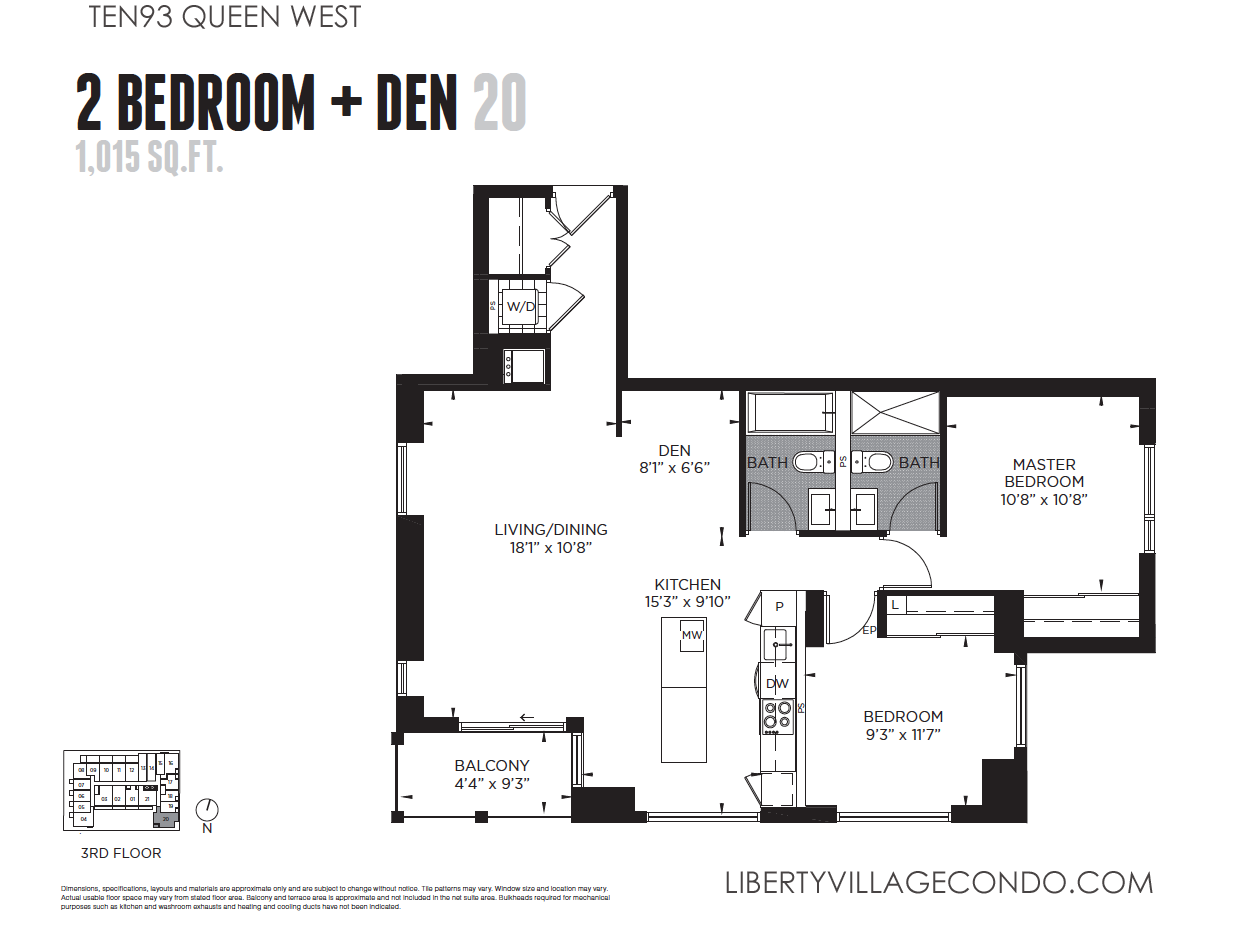wall: (945, 378, 1157, 403), (391, 516, 425, 658), (977, 755, 1029, 824), (615, 185, 633, 380), (1130, 377, 1167, 449), (842, 372, 948, 397), (570, 785, 635, 822), (1002, 639, 1164, 653), (470, 178, 493, 274), (738, 375, 849, 393), (397, 375, 502, 393), (994, 594, 1026, 653), (617, 378, 742, 393), (467, 281, 494, 337), (394, 695, 428, 735), (1141, 555, 1155, 651), (804, 590, 825, 651), (474, 181, 545, 198), (762, 807, 838, 822), (939, 378, 946, 537), (951, 803, 991, 822), (873, 585, 884, 645), (417, 714, 455, 729), (568, 714, 578, 733)
